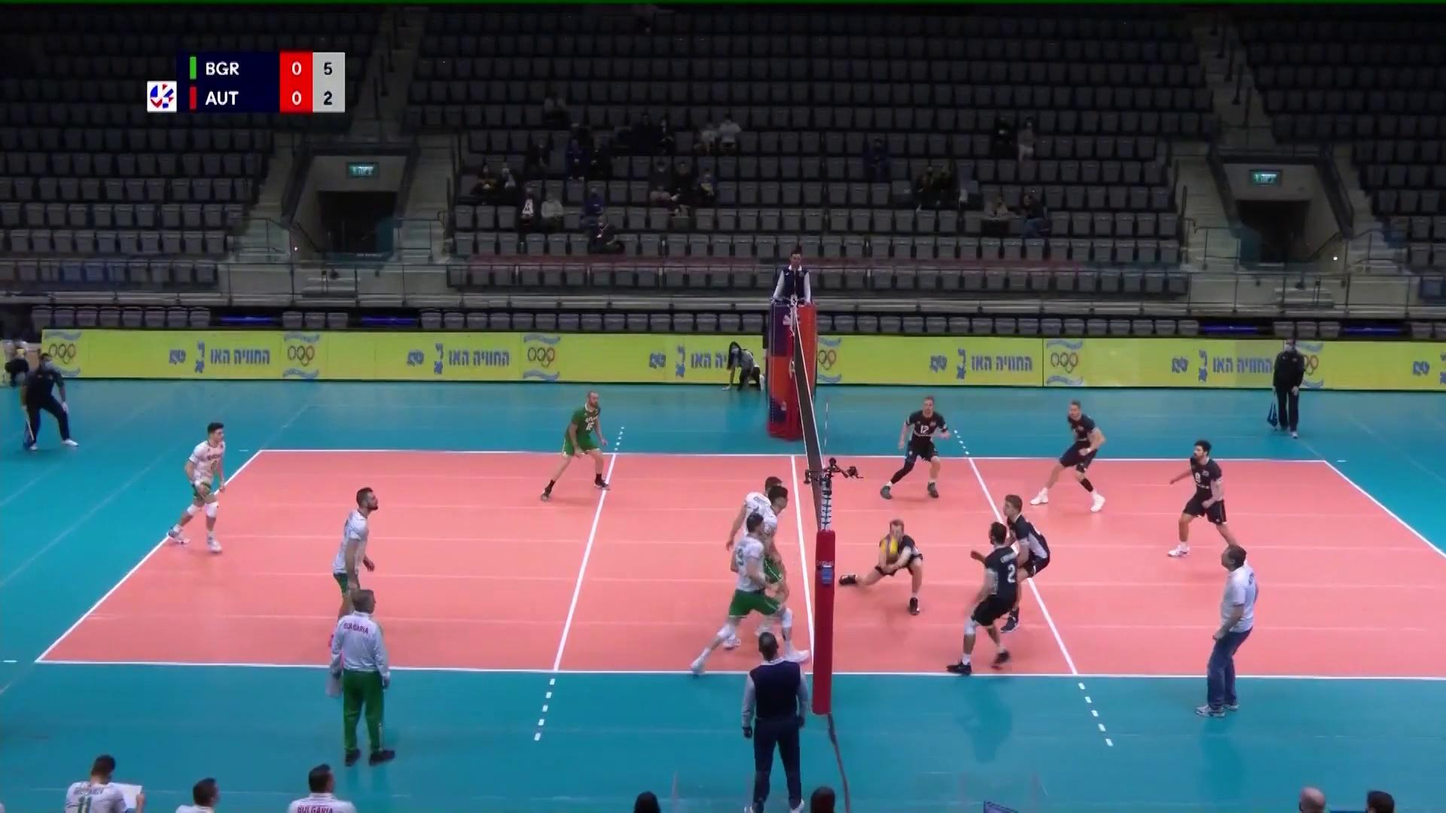ball: (881, 538, 898, 560)
